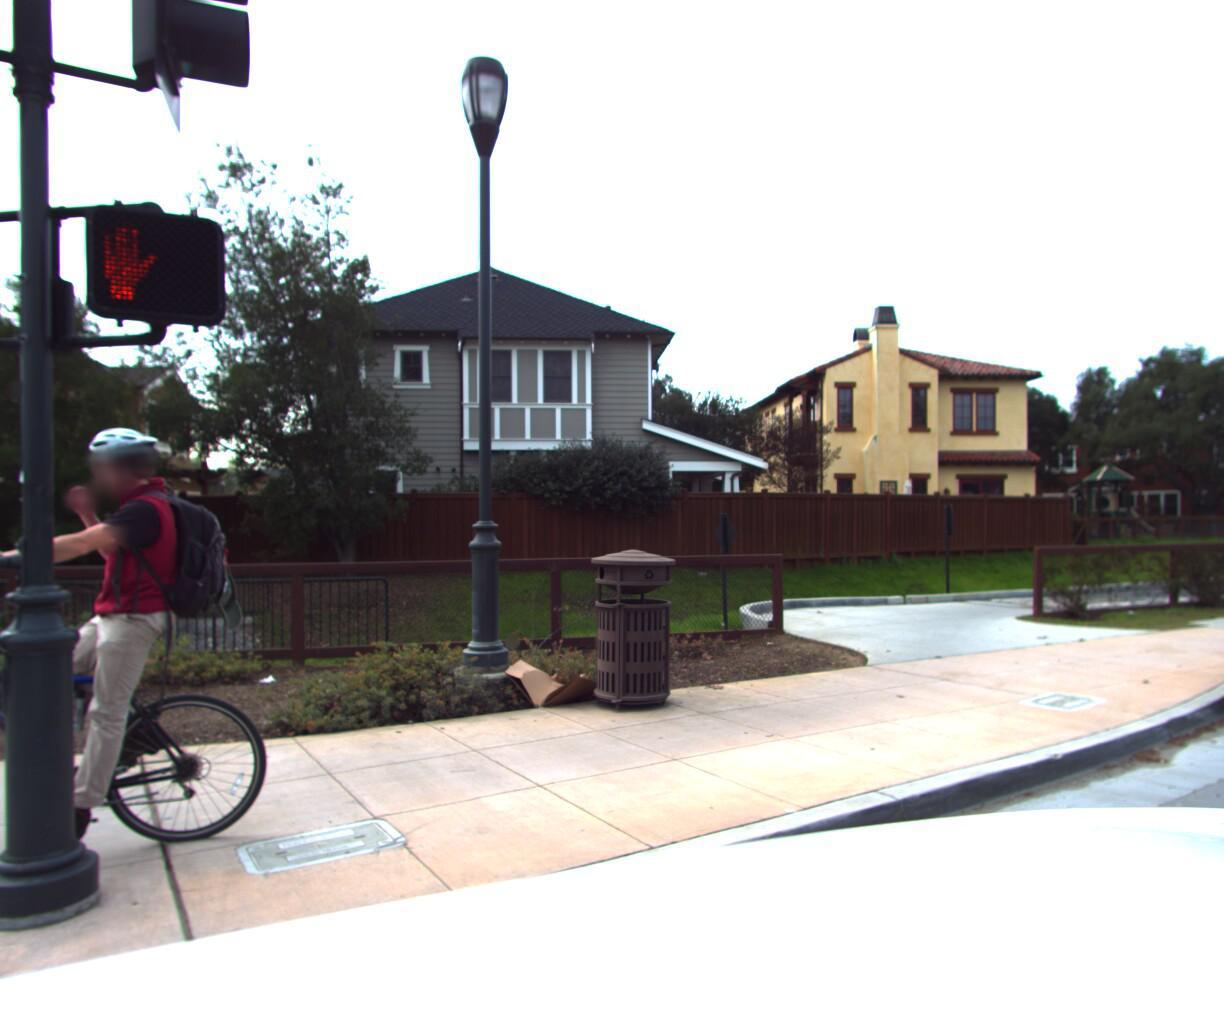bicycle: (0, 396, 307, 930)
car: (1198, 513, 1224, 758)
